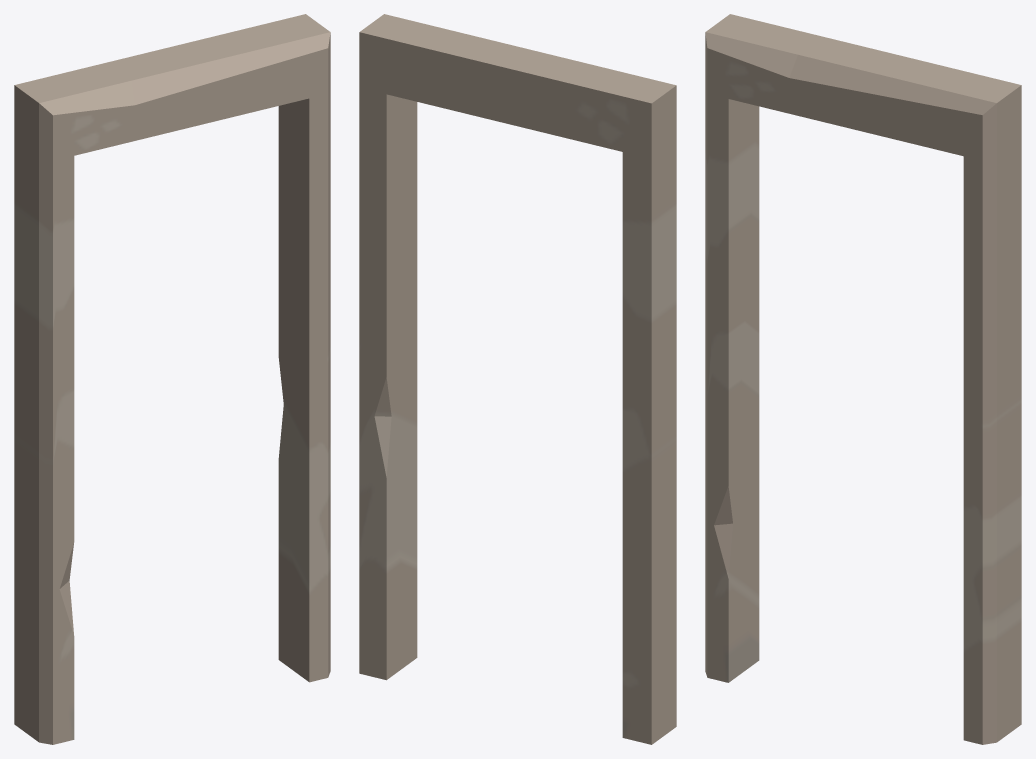
File: SM_Bld_Shop_Door_05.glb
The picture shows the model from 3 angles, left to right: view 1: azimuth 30°, elevation 25°; view 2: azimuth 150°, elevation 25°; view 3: azimuth 330°, elevation 25°; orthographic projection.
Parts seen in each view (by area): view 1: SM_Bld_Shop_Door_05; view 2: SM_Bld_Shop_Door_05; view 3: SM_Bld_Shop_Door_05.
Boxes of the visible parts, <box> form: SM_Bld_Shop_Door_05: <box>14,14,330,744</box>; SM_Bld_Shop_Door_05: <box>359,14,676,744</box>; SM_Bld_Shop_Door_05: <box>705,14,1021,744</box>.
Size of the model in its own units: 1.27 by 2.66 by 0.2314.
Materials: 1 (1 with a texture image).
